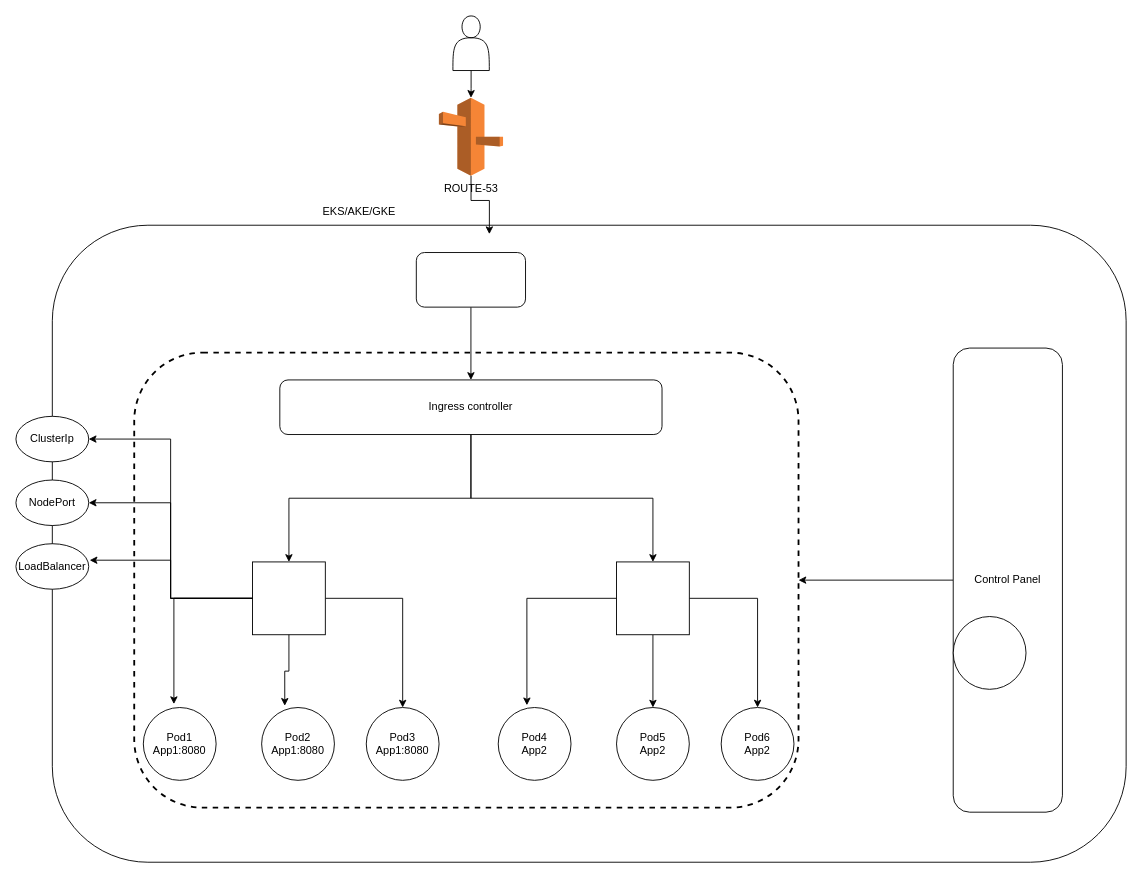
This 1142x878 diagram has some shape labels left out. The centre of each missing label's shape, as x and y in pixels:
"Kubelet" belongs at [989,652].
"Load Balancer" belongs at [470,279].
"Service 1" belongs at [288,598].
"Service 2" belongs at [652,598].
"User" belongs at [470,43].
